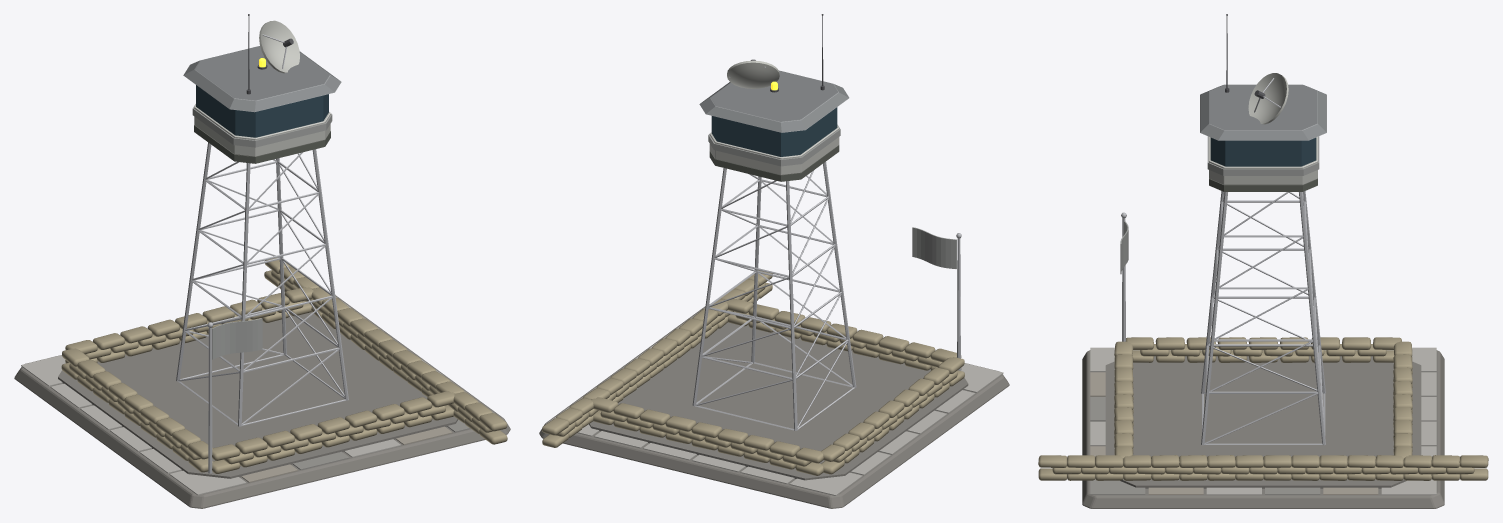
File: observation_post_neutral.glb
The picture shows the model from 3 angles, left to right: view 1: azimuth 30°, elevation 25°; view 2: azimuth 150°, elevation 25°; view 3: azimuth 270°, elevation 25°; orthographic projection. The views are drawn at different scales.
Visible parts, largest first — view 1: Body; view 2: Body; view 3: Body.
Part boxes in pixels (left/top/right/bottom): Body: left=14, top=14, right=510, bottom=508; Body: left=539, top=14, right=1009, bottom=508; Body: left=1038, top=14, right=1488, bottom=508.
Size of the model in its own units: 5.98 by 7.34 by 7.42.
1 material, 1 textured.
